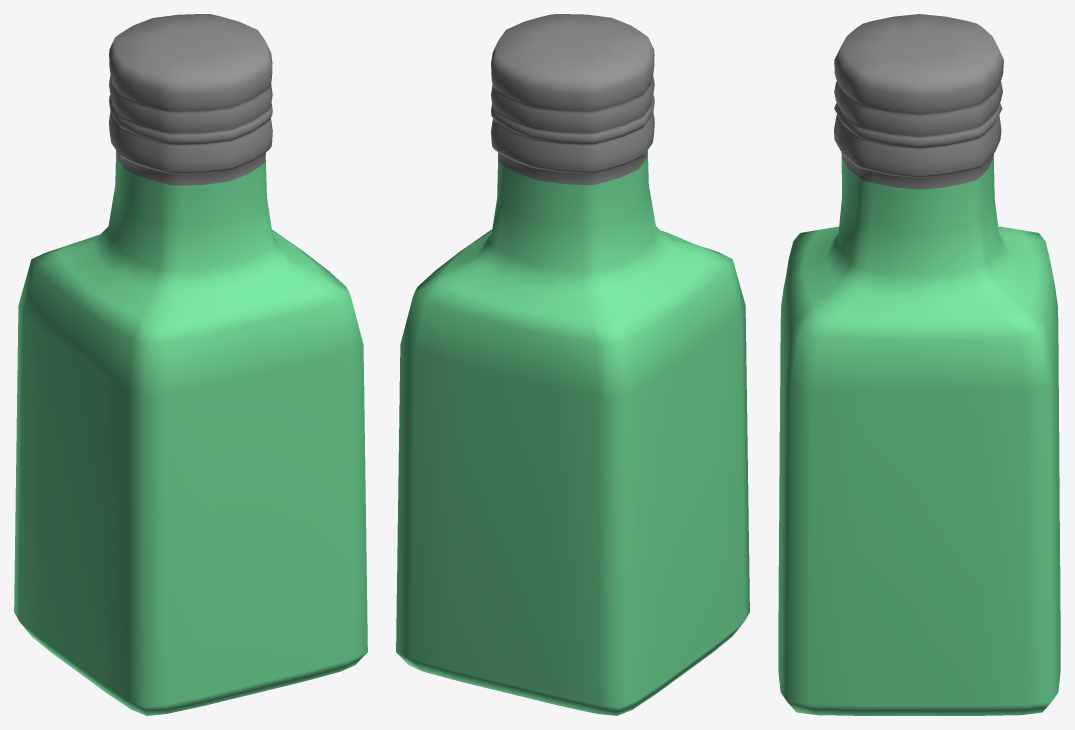
Rendered from oil.fbx.
The picture shows the model from 3 angles, left to right: view 1: azimuth 30°, elevation 25°; view 2: azimuth 150°, elevation 25°; view 3: azimuth 270°, elevation 25°; orthographic projection. The views are drawn at different scales.
Parts seen in each view (by area): view 1: pCube6; view 2: pCube6; view 3: pCube6.
Boxes of the visible parts, box(x1,y1,x2,y2) form: pCube6: box(14, 14, 367, 715); pCube6: box(396, 14, 749, 715); pCube6: box(778, 14, 1060, 715).
Bounding box in the file's own units: 6.34 × 15.55 × 6.34.
